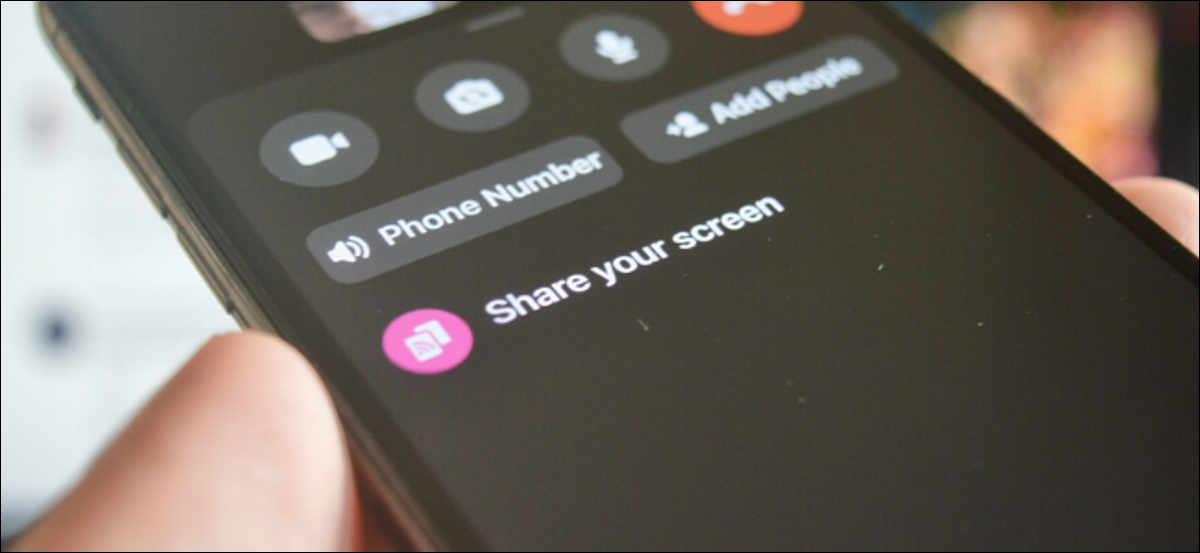Cell Phone: (39, 2, 1200, 547)
